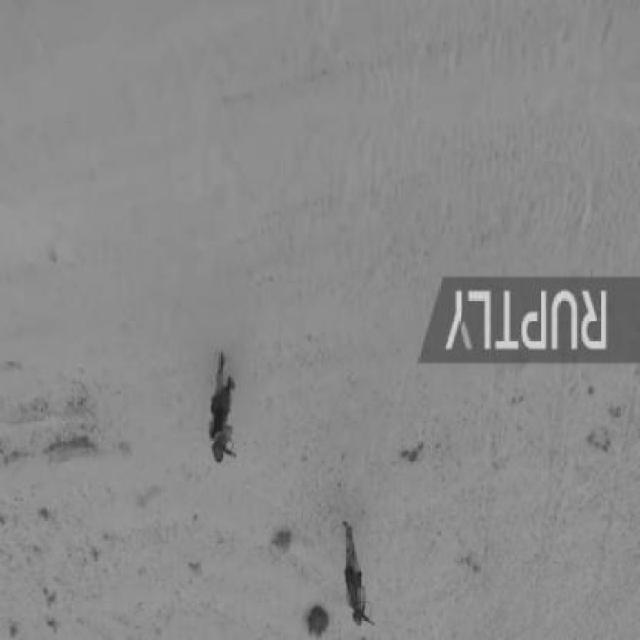Person: (207, 348, 243, 469), (342, 520, 375, 631)
